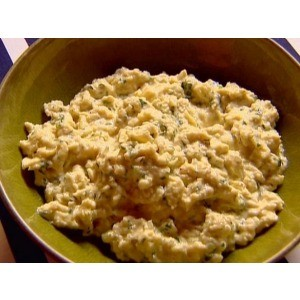egg_brain food: (83, 86, 212, 218)
